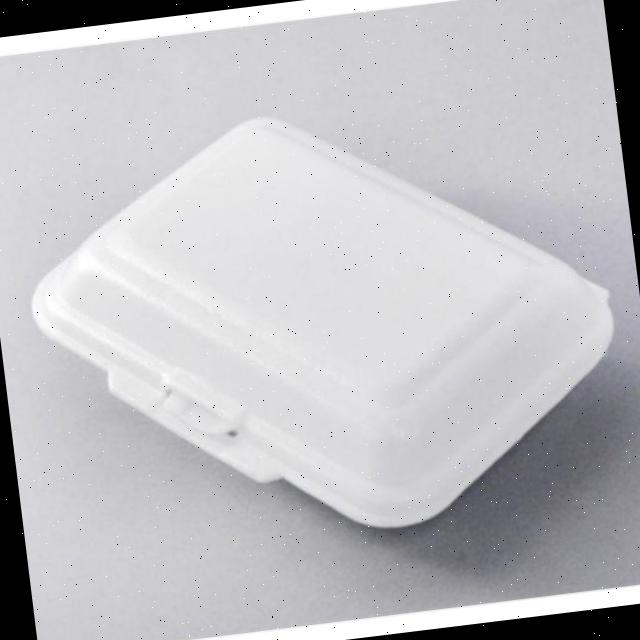styrofoam: (9, 73, 637, 570)
